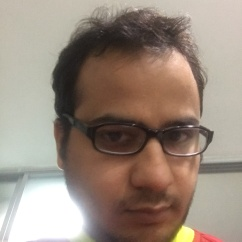glasses: (70, 115, 217, 157)
